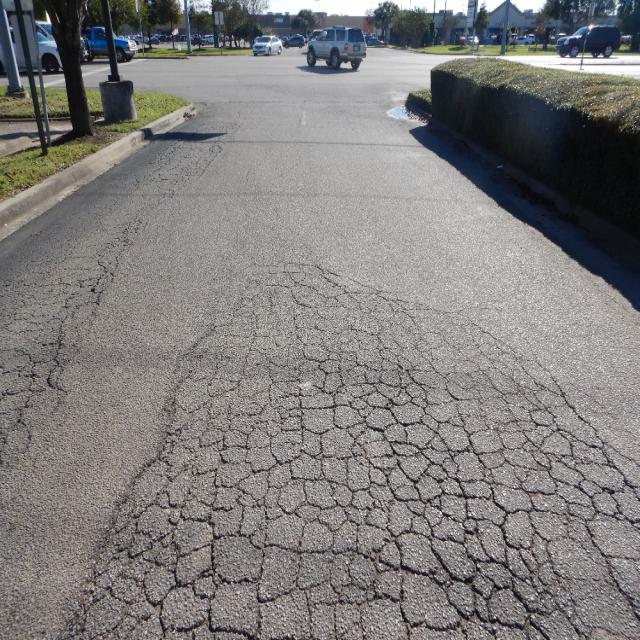Drain Hole: (146, 307, 640, 640)
